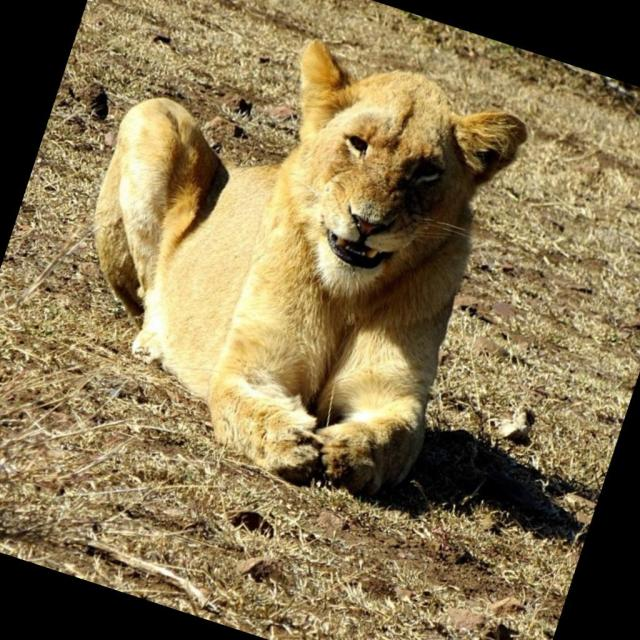Lion: (30, 0, 539, 515)
